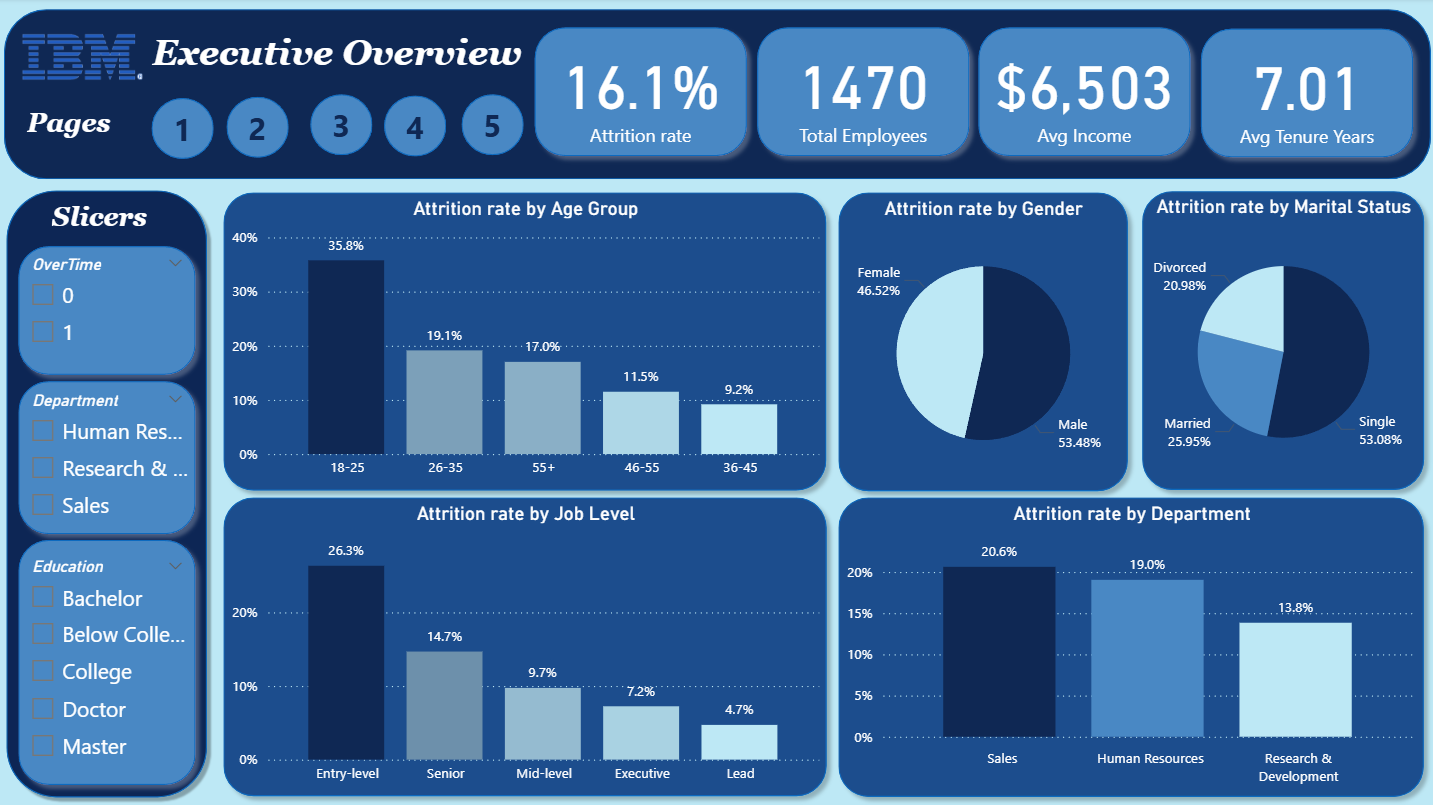

This screenshot's page, from the dashboard's own definition file:
{"tool":"powerbi","page":{"name":"Executive Overview","canvas":[1280,720],"ordinal":0},"visuals":[{"type":"shape","box":[4.1,9.5,1270.8,151.6],"z":0},{"type":"shape","box":[136.3,89.3,55.5,54.3],"z":0,"group":"g14"},{"type":"image","box":[15.7,9.7,117,83.2],"z":1000,"group":"g15"},{"type":"shape","box":[202.7,88.1,55.5,54.3],"z":1000,"group":"g14"},{"type":"group","id":"g1","title":"Group 1","box":[191.8,165.3,553.8,282.3],"z":1000},{"type":"shape","box":[468.1,18.1,205.8,131.4],"z":1500,"group":"g5"},{"type":"shape","box":[665.7,18.1,205.8,131.4],"z":1500,"group":"g7"},{"type":"shape","box":[863.4,18.1,205.8,131.4],"z":1500,"group":"g9"},{"type":"shape","box":[1061,19.5,205.8,131.4],"z":1500,"group":"g10"},{"type":"shape","box":[1009.8,164.1,267.9,282.9],"z":1500,"group":"g3"},{"type":"shape","box":[191.8,165.3,553.8,282.3],"z":1500,"group":"g1"},{"type":"shape","box":[739.5,165.3,274.5,282.9],"z":1500,"group":"g2"},{"type":"shape","box":[8.4,212.3,174.5,131.4],"z":1500,"group":"g11"},{"type":"shape","box":[8.4,333,174.5,153],"z":1500,"group":"g12"},{"type":"shape","box":[191.8,436.7,554,282.9],"z":1500,"group":"g6"},{"type":"shape","box":[739.5,436.7,538.1,283.5],"z":1500,"group":"g4"},{"type":"shape","box":[8.4,474.1,174.5,235],"z":1500,"group":"g13"},{"type":"textbox","box":[131.2,25.1,349.2,60.9],"z":2000,"group":"g15"},{"type":"shape","box":[277.5,85.7,55.5,54.3],"z":2000,"group":"g14"},{"type":"group","id":"g2","title":"Group 1","box":[739.5,165.3,275.1,282.3],"z":2000},{"type":"shape","box":[343.8,86.9,55.5,54.3],"z":3000,"group":"g14"},{"type":"textbox","box":[20.5,92.9,105,43.4],"z":3000},{"type":"shape","box":[412.6,85.7,55.5,54.3],"z":4000,"group":"g14"},{"type":"group","id":"g3","title":"Group 1","box":[1009.8,164.1,267.8,283.5],"z":4000},{"type":"pieChart","title":"Attrition rate by Marital Status","fields":{"Y":["_measures.Attrition rate"],"Category":["Dim_Employee.MaritalStatus"]},"box":[1015.1,176.3,257.9,259.8],"z":4000,"group":"g3"},{"type":"clusteredColumnChart","title":"Attrition rate by Age Group","fields":{"Y":["_measures.Attrition rate"],"Category":["Dim_Employee.AgeGroup"]},"box":[202.8,177.5,533,259.3],"z":4000,"group":"g1"},{"type":"pieChart","title":"Attrition rate by Gender","fields":{"Category":["Dim_Employee.Gender"],"Y":["_measures.Attrition rate"]},"box":[744.9,177.5,264.3,259.8],"z":4000,"group":"g2"},{"type":"clusteredColumnChart","title":"Attrition rate by Job Level","fields":{"Y":["_measures.Attrition rate"],"Category":["Dim_JobLevel.JobLevel"]},"box":[202.8,448.9,533.2,259.8],"z":4000,"group":"g6"},{"type":"clusteredColumnChart","title":"Attrition rate by Department","fields":{"Y":["_measures.Attrition rate"],"Category":["Dim_Department.Department"]},"box":[750.2,448.9,517.9,260.5],"z":4000,"group":"g4"},{"type":"group","id":"g4","title":"Group 1","box":[739.5,436.7,538.1,283.5],"z":5000},{"type":"card","fields":{"Values":["_measures.Attrition rate"]},"box":[476.8,28.9,188.3,109.7],"z":5001,"group":"g5"},{"type":"card","fields":{"Values":["_measures.Total Employees"]},"box":[674.4,28.9,188.3,109.7],"z":5001,"group":"g7"},{"type":"card","fields":{"Values":["_measures.Avg Income"]},"box":[872.1,28.9,188.3,109.7],"z":5001,"group":"g9"},{"type":"card","fields":{"Values":["_measures.Avg Tenure Years"]},"box":[1069.7,30.3,188.3,109.7],"z":5001,"group":"g10"},{"type":"slicer","fields":{"Values":["Fact_Emp_Metrics.OverTime"]},"box":[15.8,223.1,159.7,109.7],"z":5001,"group":"g11"},{"type":"slicer","fields":{"Values":["Dim_Department.Department"]},"box":[15.8,345.6,159.7,127.8],"z":5001,"group":"g12"},{"type":"slicer","fields":{"Values":["Dim_Education.Education"]},"box":[15.8,493.5,159.7,196.2],"z":5001,"group":"g13"},{"type":"group","id":"g5","title":"Group 2","box":[468.1,18.1,205.8,131.4],"z":6000,"group":"g8"},{"type":"group","id":"g6","title":"Group 1","box":[191.8,436.7,553.8,283.5],"z":6000},{"type":"group","id":"g7","title":"Group 2","box":[665.7,18.1,205.8,131.4],"z":7000,"group":"g8"},{"type":"shape","box":[0,165.3,191.8,553.8],"z":7000},{"type":"group","id":"g8","title":"Group 3","box":[468.1,18.1,798.7,132.7],"z":8000},{"type":"group","id":"g9","title":"Group 2","box":[863.4,18.1,205.8,131.4],"z":8000,"group":"g8"},{"type":"group","id":"g10","title":"Group 2","box":[1061,19.5,205.8,131.4],"z":9000,"group":"g8"},{"type":"group","id":"g11","title":"Group 2","box":[8.4,212.3,174.9,131.5],"z":9000},{"type":"group","id":"g12","title":"Group 2","box":[8.4,333,174.9,153.2],"z":10000},{"type":"group","id":"g13","title":"Group 2","box":[8.4,474.1,174.9,235.3],"z":11000},{"type":"textbox","box":[42.2,176.1,105,43.4],"z":12000},{"type":"group","id":"g14","title":"Group 5","box":[136.3,85.7,331.8,57.9],"z":13000},{"type":"group","id":"g15","title":"Group 4","box":[15.7,9.7,464.6,83.2],"z":14000}]}

Visuals, with their boxes in screenshot pixels (x1, y1, x2, y2), scaled from the page's 1280x720 canvas onto the 1433x805 screenshot:
shape: (x1=5, y1=11, x2=1427, y2=180)
shape: (x1=153, y1=100, x2=215, y2=161)
image: (x1=18, y1=11, x2=149, y2=104)
shape: (x1=227, y1=99, x2=289, y2=159)
"Group 1" group: (x1=215, y1=185, x2=835, y2=500)
shape: (x1=524, y1=20, x2=754, y2=167)
shape: (x1=745, y1=20, x2=976, y2=167)
shape: (x1=967, y1=20, x2=1197, y2=167)
shape: (x1=1188, y1=22, x2=1418, y2=169)
shape: (x1=1131, y1=183, x2=1430, y2=500)
shape: (x1=215, y1=185, x2=835, y2=500)
shape: (x1=828, y1=185, x2=1135, y2=501)
shape: (x1=9, y1=237, x2=205, y2=384)
shape: (x1=9, y1=372, x2=205, y2=543)
shape: (x1=215, y1=488, x2=835, y2=804)
shape: (x1=828, y1=488, x2=1430, y2=804)
shape: (x1=9, y1=530, x2=205, y2=793)
textbox: (x1=147, y1=28, x2=538, y2=96)
shape: (x1=311, y1=96, x2=373, y2=157)
"Group 1" group: (x1=828, y1=185, x2=1136, y2=500)
shape: (x1=385, y1=97, x2=447, y2=158)
textbox: (x1=23, y1=104, x2=141, y2=152)
shape: (x1=462, y1=96, x2=524, y2=157)
"Group 1" group: (x1=1131, y1=183, x2=1430, y2=500)
"Attrition rate by Marital Status" pieChart: (x1=1136, y1=197, x2=1425, y2=488)
"Attrition rate by Age Group" clusteredColumnChart: (x1=227, y1=198, x2=824, y2=488)
"Attrition rate by Gender" pieChart: (x1=834, y1=198, x2=1130, y2=489)
"Attrition rate by Job Level" clusteredColumnChart: (x1=227, y1=502, x2=824, y2=792)
"Attrition rate by Department" clusteredColumnChart: (x1=840, y1=502, x2=1420, y2=793)
"Group 1" group: (x1=828, y1=488, x2=1430, y2=804)
card - _measures.Attrition rate: (x1=534, y1=32, x2=745, y2=155)
card - _measures.Total Employees: (x1=755, y1=32, x2=966, y2=155)
card - _measures.Avg Income: (x1=976, y1=32, x2=1187, y2=155)
card - _measures.Avg Tenure Years: (x1=1198, y1=34, x2=1408, y2=157)
slicer - Fact_Emp_Metrics.OverTime: (x1=18, y1=249, x2=196, y2=372)
slicer - Dim_Department.Department: (x1=18, y1=386, x2=196, y2=529)
slicer - Dim_Education.Education: (x1=18, y1=552, x2=196, y2=771)
"Group 2" group: (x1=524, y1=20, x2=754, y2=167)
"Group 1" group: (x1=215, y1=488, x2=835, y2=804)
"Group 2" group: (x1=745, y1=20, x2=976, y2=167)
shape: (x1=0, y1=185, x2=215, y2=804)
"Group 3" group: (x1=524, y1=20, x2=1418, y2=169)
"Group 2" group: (x1=967, y1=20, x2=1197, y2=167)
"Group 2" group: (x1=1188, y1=22, x2=1418, y2=169)
"Group 2" group: (x1=9, y1=237, x2=205, y2=384)
"Group 2" group: (x1=9, y1=372, x2=205, y2=544)
"Group 2" group: (x1=9, y1=530, x2=205, y2=793)
textbox: (x1=47, y1=197, x2=165, y2=245)
"Group 5" group: (x1=153, y1=96, x2=524, y2=161)
"Group 4" group: (x1=18, y1=11, x2=538, y2=104)
